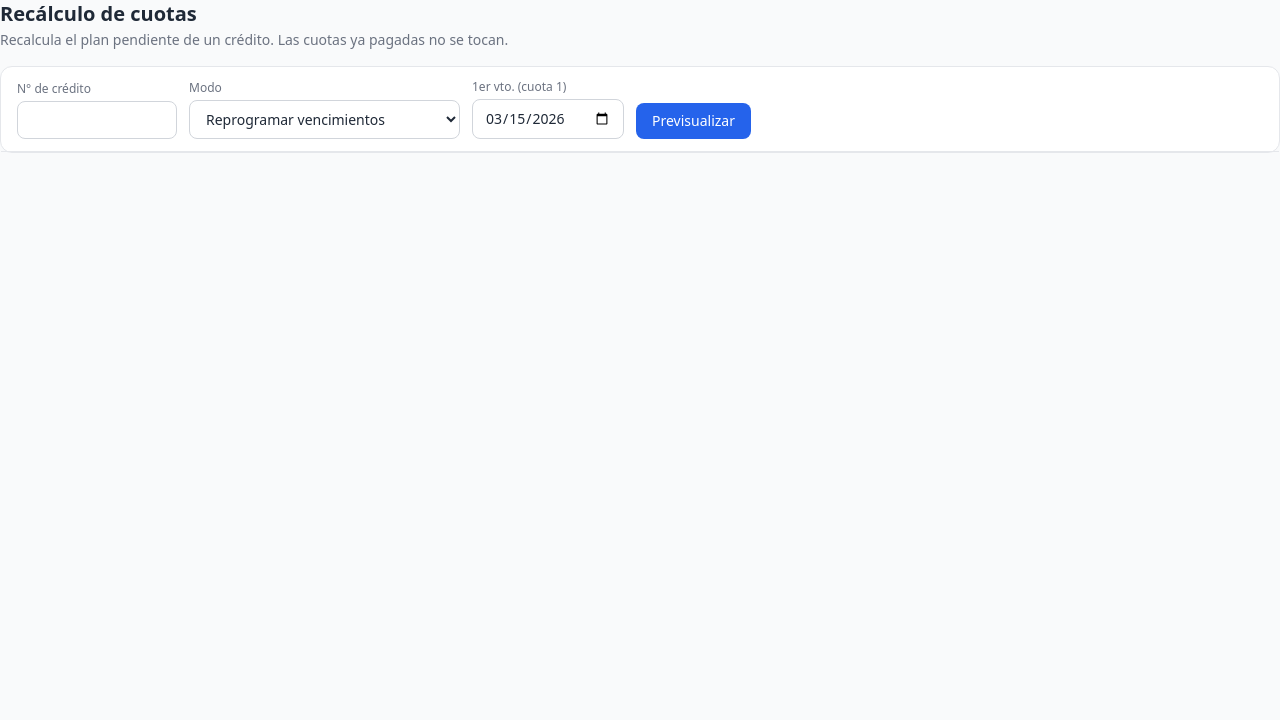
it: Recálculo de cuotas › aplicar exige confirmación y avisa el resultado
Type "900" into the field labelled "N° de crédito".
click(97, 120); type("900")  # box x1=17 y1=101 x2=177 y2=139
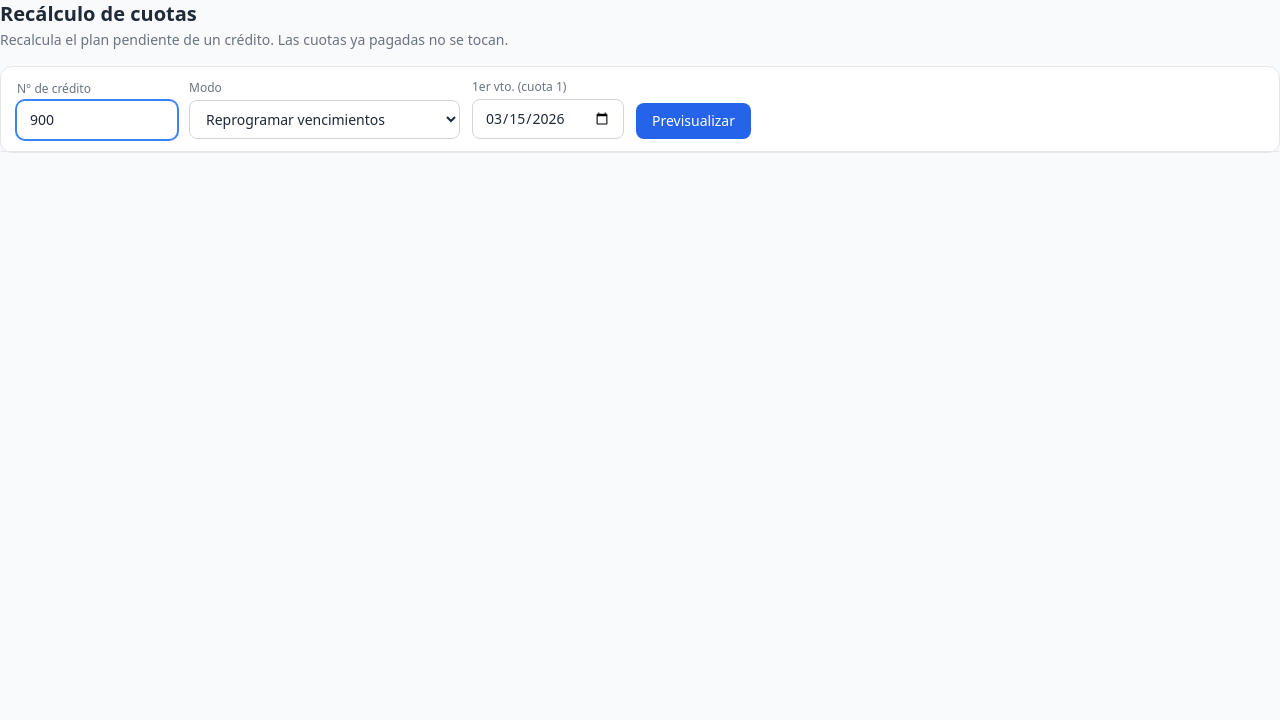
Click the button "Previsualizar".
click(694, 121)  # box x1=636 y1=103 x2=751 y2=139
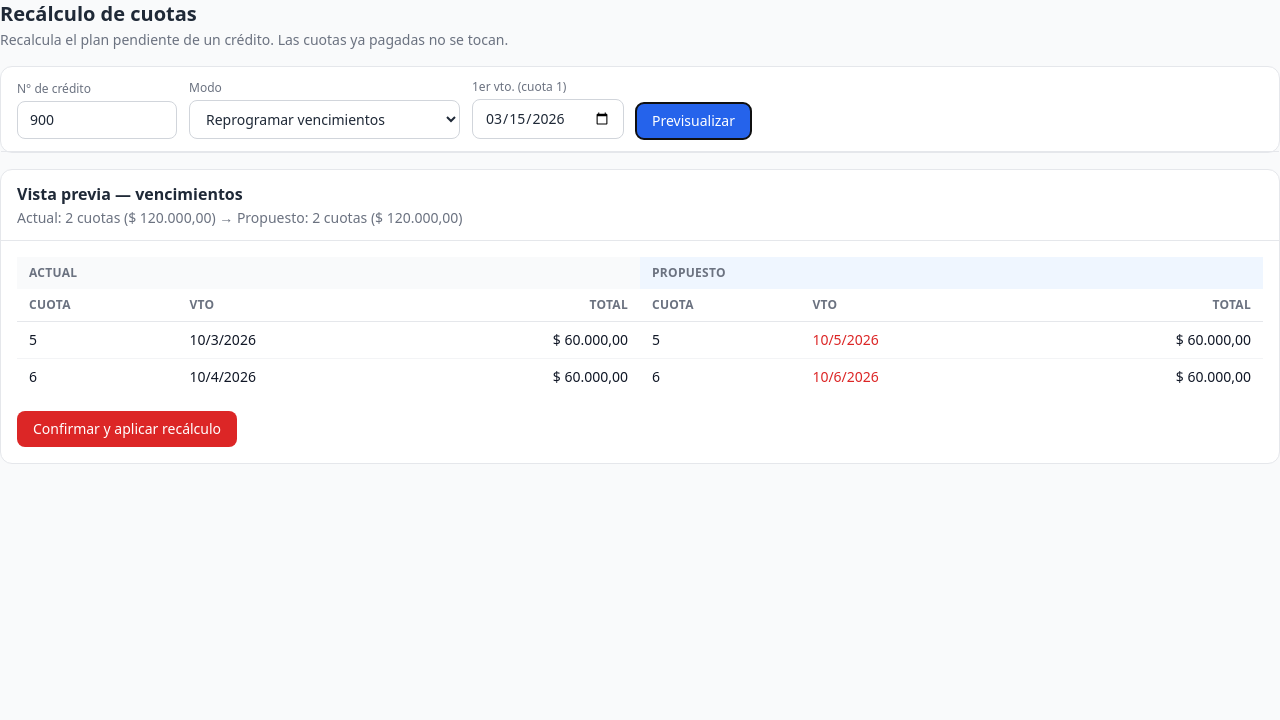
Click the button "Confirmar y aplicar recálculo".
click(127, 429)  # box x1=17 y1=411 x2=237 y2=447
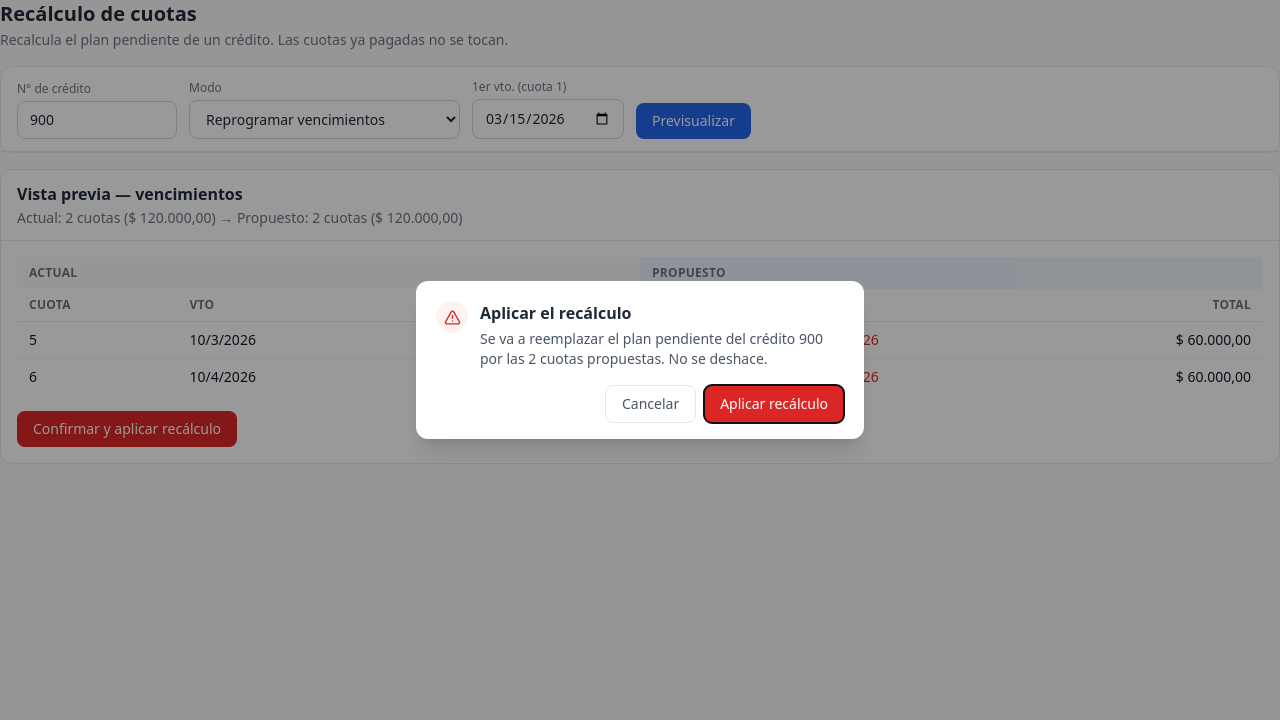
Now the dialog is shown
Click the button "Aplicar recálculo".
click(774, 404)  # box x1=704 y1=385 x2=844 y2=423
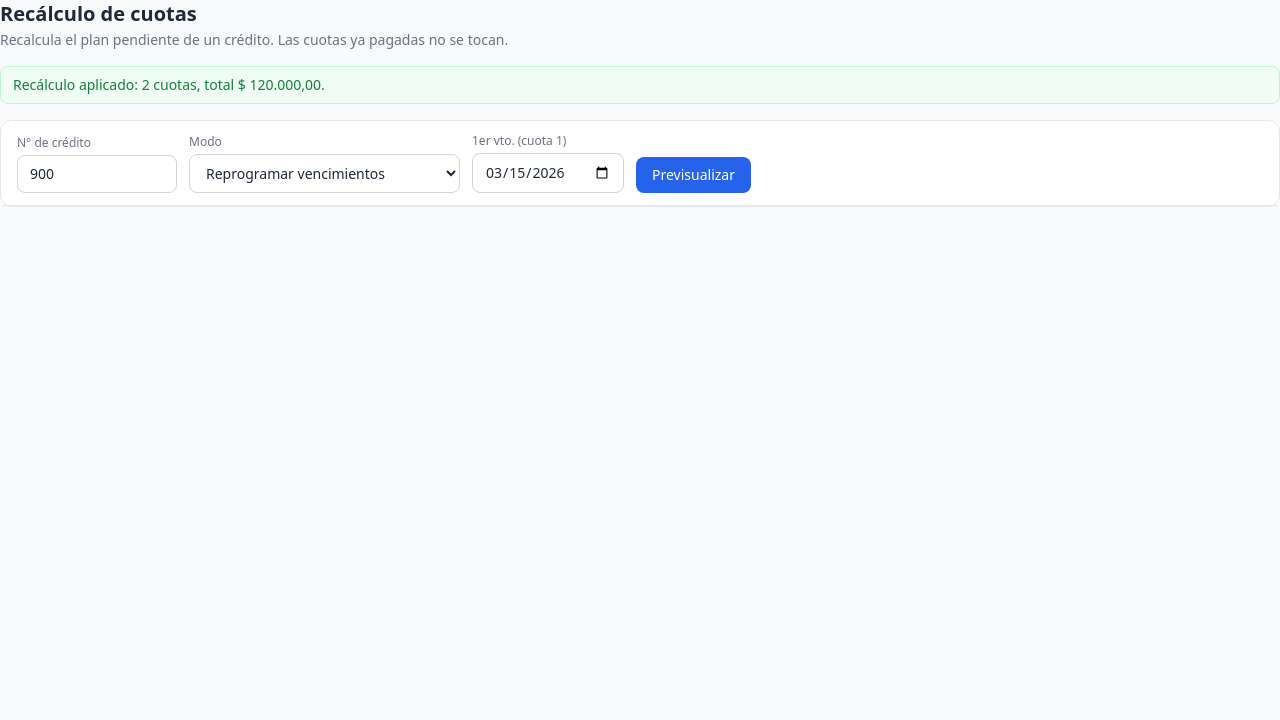
Now the text "Recálculo aplicado: 2 cuotas, total $ 120.000,00." is shown, box x1=0 y1=66 x2=1279 y2=104
